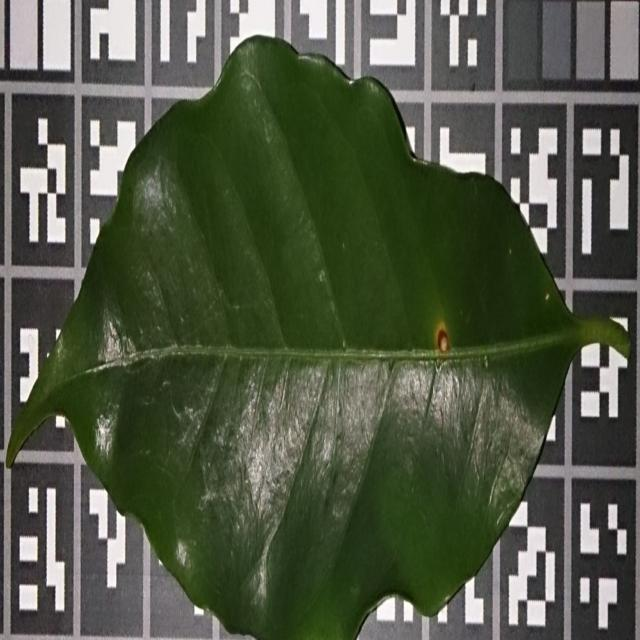Enfermedad-Mancha-de-hierro: (5, 35, 593, 640)
